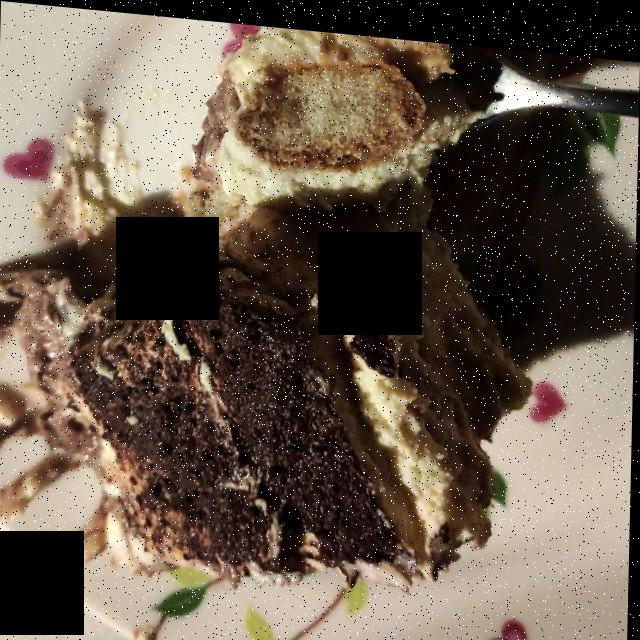tiramisu: (3, 36, 528, 584)
